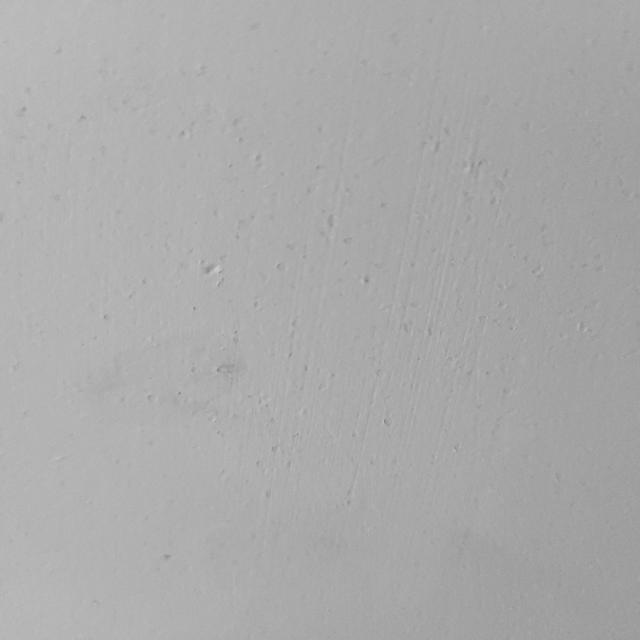rough and patchy surface: (15, 33, 640, 639)
